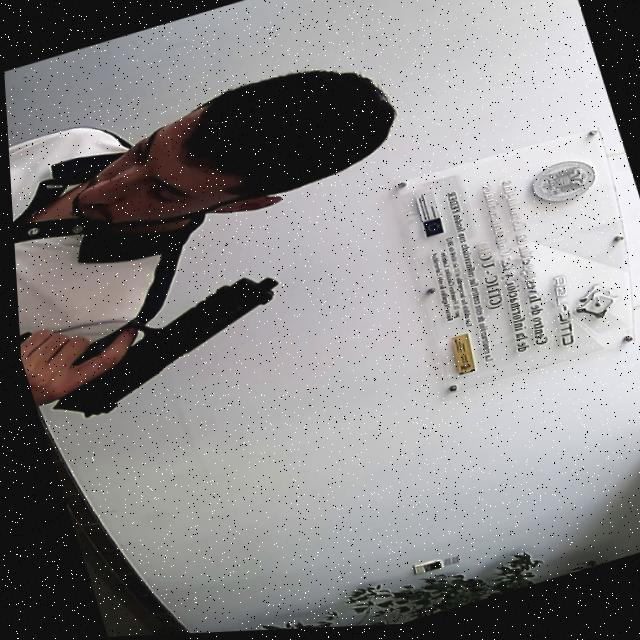pistol: (21, 268, 300, 428)
